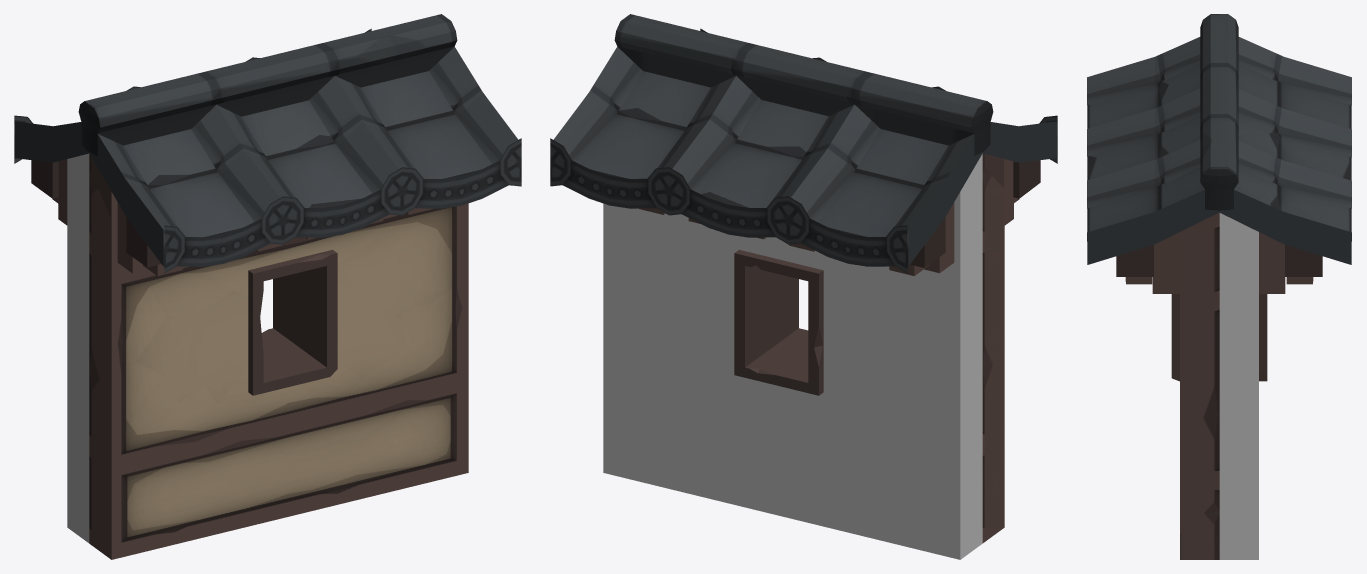
The model's file is SM_Bld_Fence_Dobei_01_Alt_01.fbx.
3 views of the same model, side by side, from view 1: azimuth 30°, elevation 25°; view 2: azimuth 150°, elevation 25°; view 3: azimuth 270°, elevation 25° (orthographic). The views are drawn at different scales.
Parts seen in each view (by area): view 1: SM_Bld_Fence_Dobei_01_Alt_01; view 2: SM_Bld_Fence_Dobei_01_Alt_01; view 3: SM_Bld_Fence_Dobei_01_Alt_01.
Part boxes in pixels (box(x1,y1,x2,y2)): SM_Bld_Fence_Dobei_01_Alt_01: box(14, 14, 521, 559); SM_Bld_Fence_Dobei_01_Alt_01: box(550, 14, 1057, 559); SM_Bld_Fence_Dobei_01_Alt_01: box(1087, 14, 1351, 559).
Size of the model in its own units: 253 by 294 by 182.
